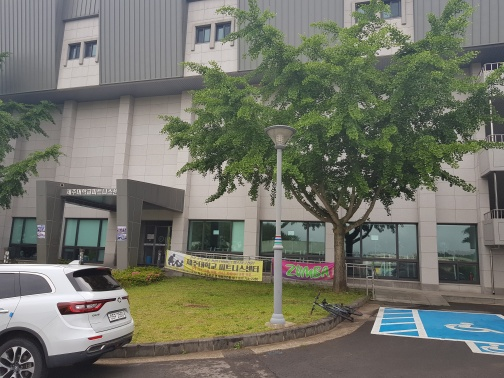Gym: (2, 2, 485, 272), (28, 162, 188, 262)
